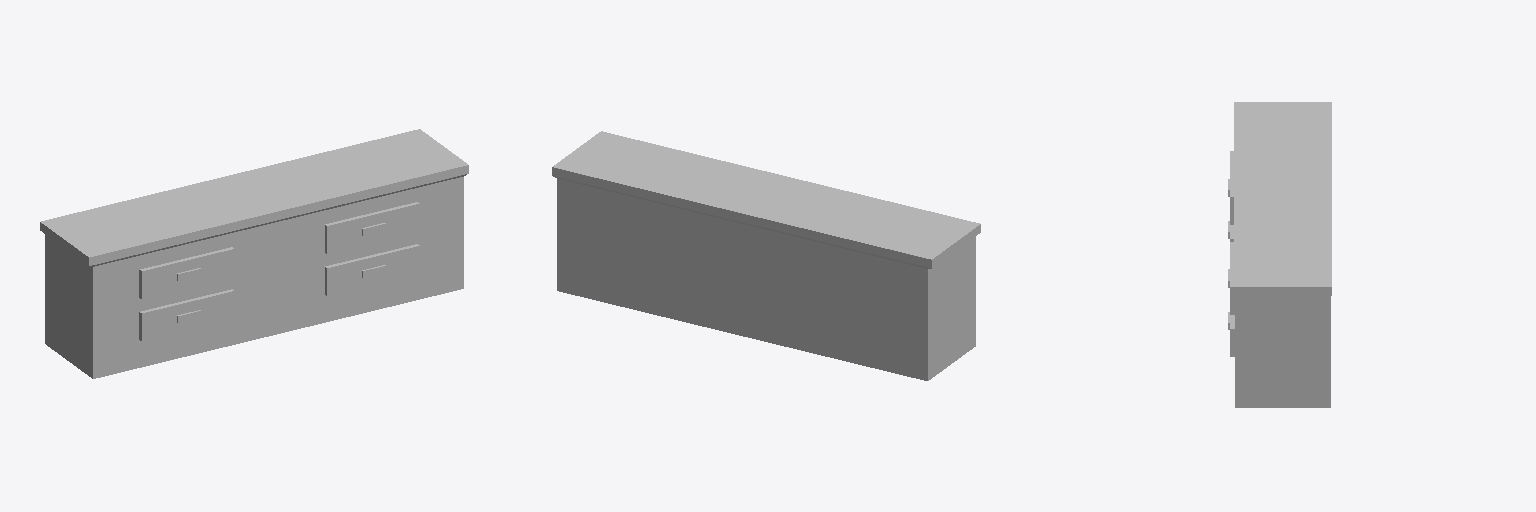
File: Dresser.obj
3 renders of one model, left to right at view 1: azimuth 30°, elevation 25°; view 2: azimuth 150°, elevation 25°; view 3: azimuth 270°, elevation 25°, orthographic.
Visible parts, largest first — view 1: Cube; view 2: Cube; view 3: Cube.
Part boxes in pixels (left/top/right/bottom): Cube: left=40, top=129, right=468, bottom=378; Cube: left=552, top=131, right=980, bottom=380; Cube: left=1228, top=102, right=1331, bottom=407.
Size of the model in its own units: 9.15 by 2.83 by 2.17.